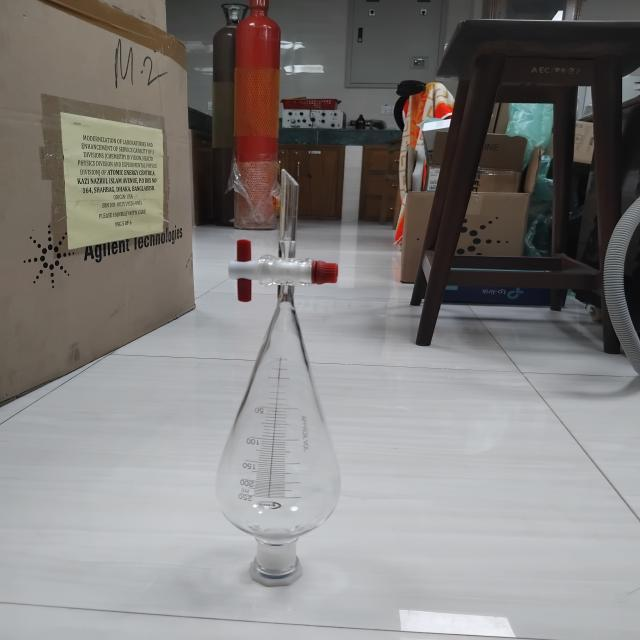Separating_Funnel: (196, 152, 367, 618)
